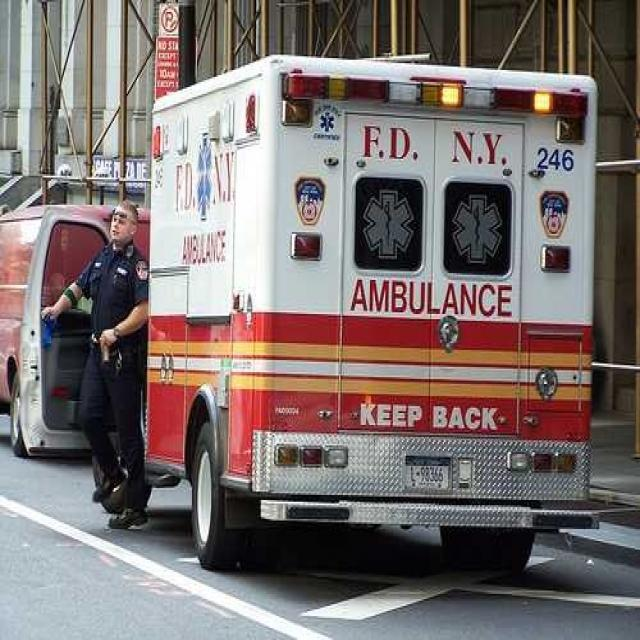emergency-vehicle: (152, 53, 612, 589)
